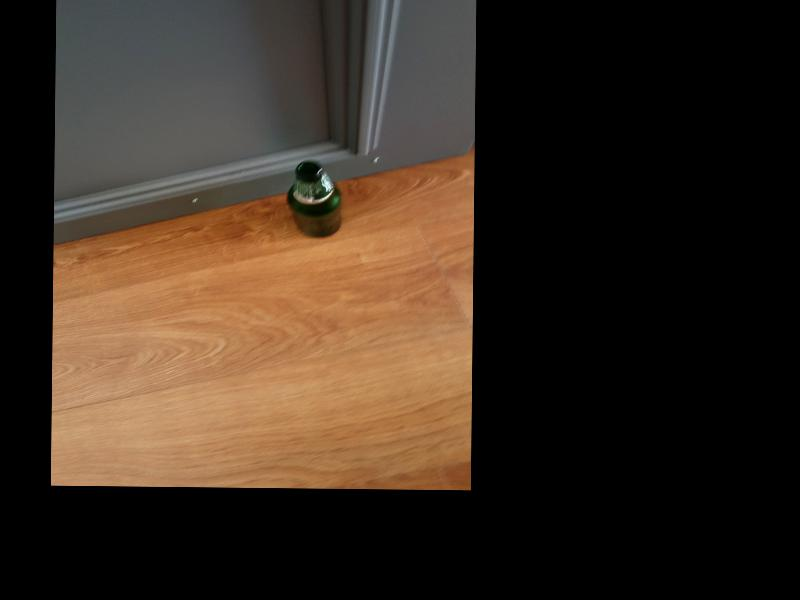Beer: (287, 161, 340, 237)
